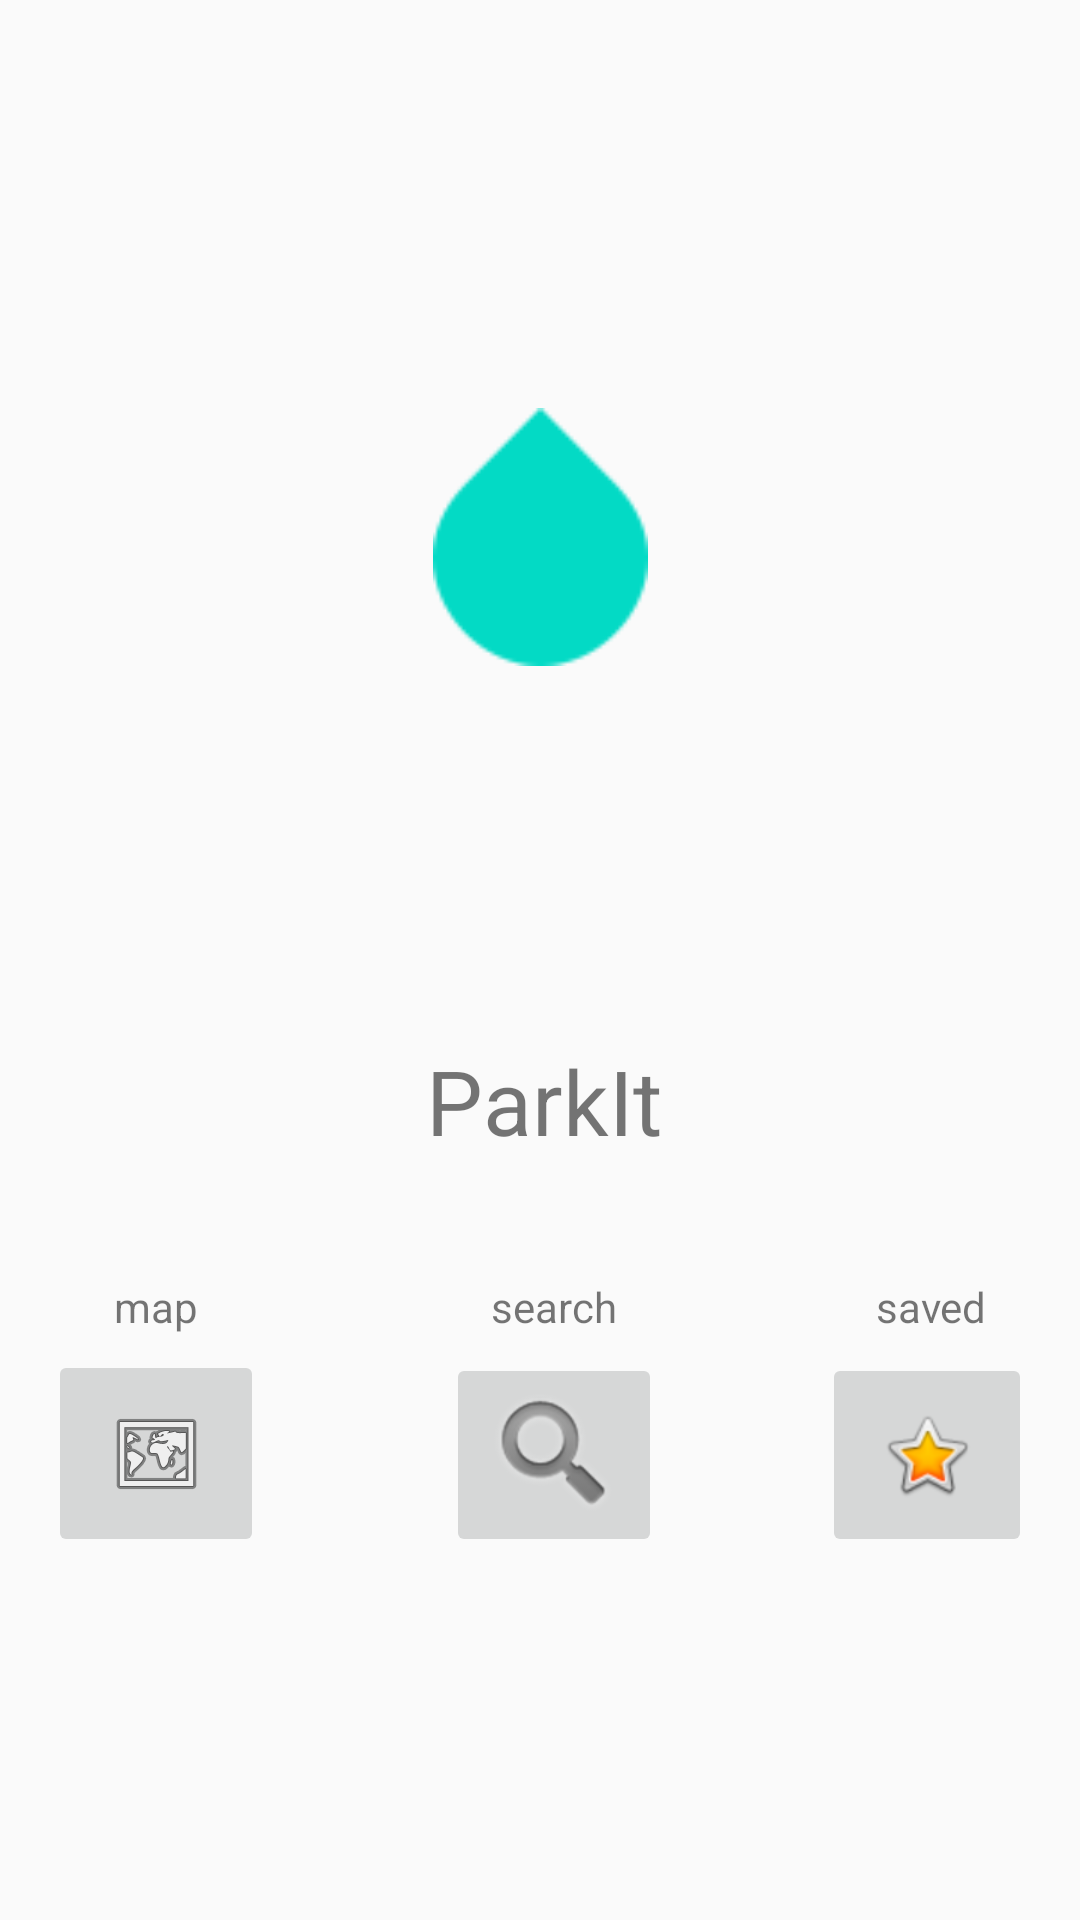

Where icons sit on this 1080w x 1920h app screen, as (x1, y1, x2, y2):
star on: (834, 1371, 1020, 1539)
